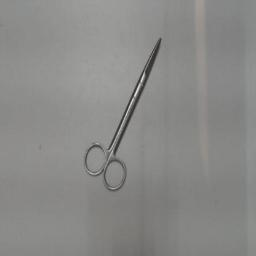Curved Mayo Scissors: (79, 32, 165, 198)
